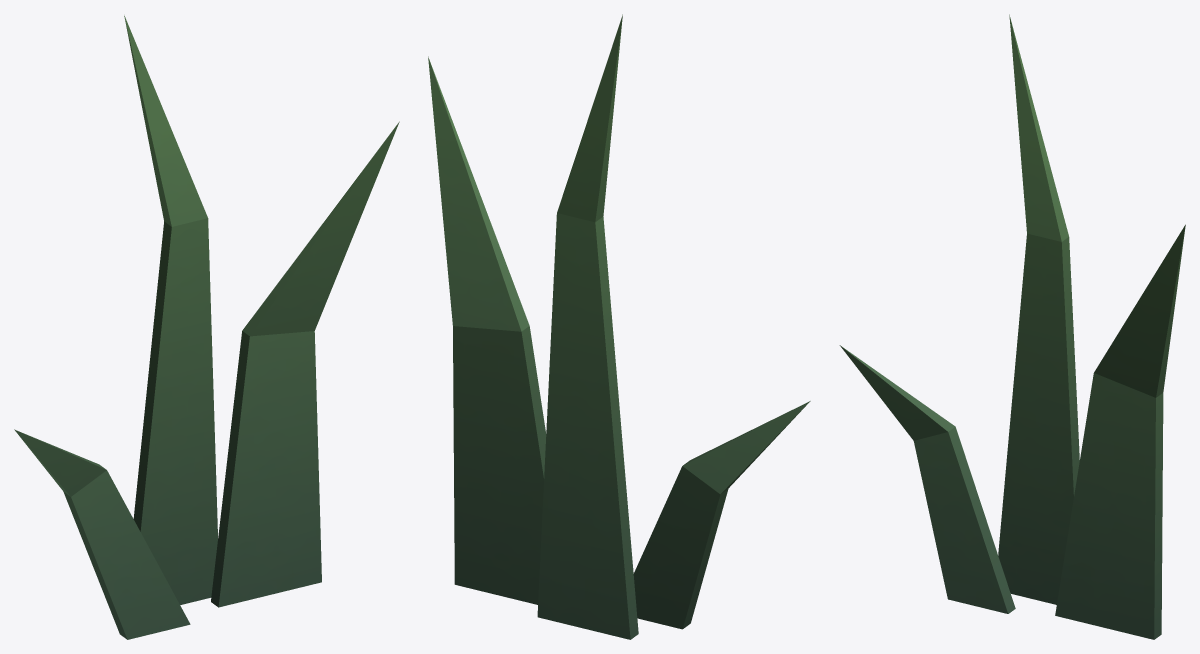
The model's file is Grass_lvl2_01.fbx.
The picture shows the model from 3 angles, left to right: view 1: azimuth 30°, elevation 25°; view 2: azimuth 150°, elevation 25°; view 3: azimuth 330°, elevation 25°; orthographic projection. The views are drawn at different scales.
Visible parts, largest first — view 1: Grass; view 2: Grass; view 3: Grass.
Part boxes in pixels (x1,y1,x2,y2): Grass: (14,15,399,639); Grass: (428,14,810,639); Grass: (839,14,1185,639).
Size of the model in its own units: 0.4513 by 0.6847 by 0.0959.
